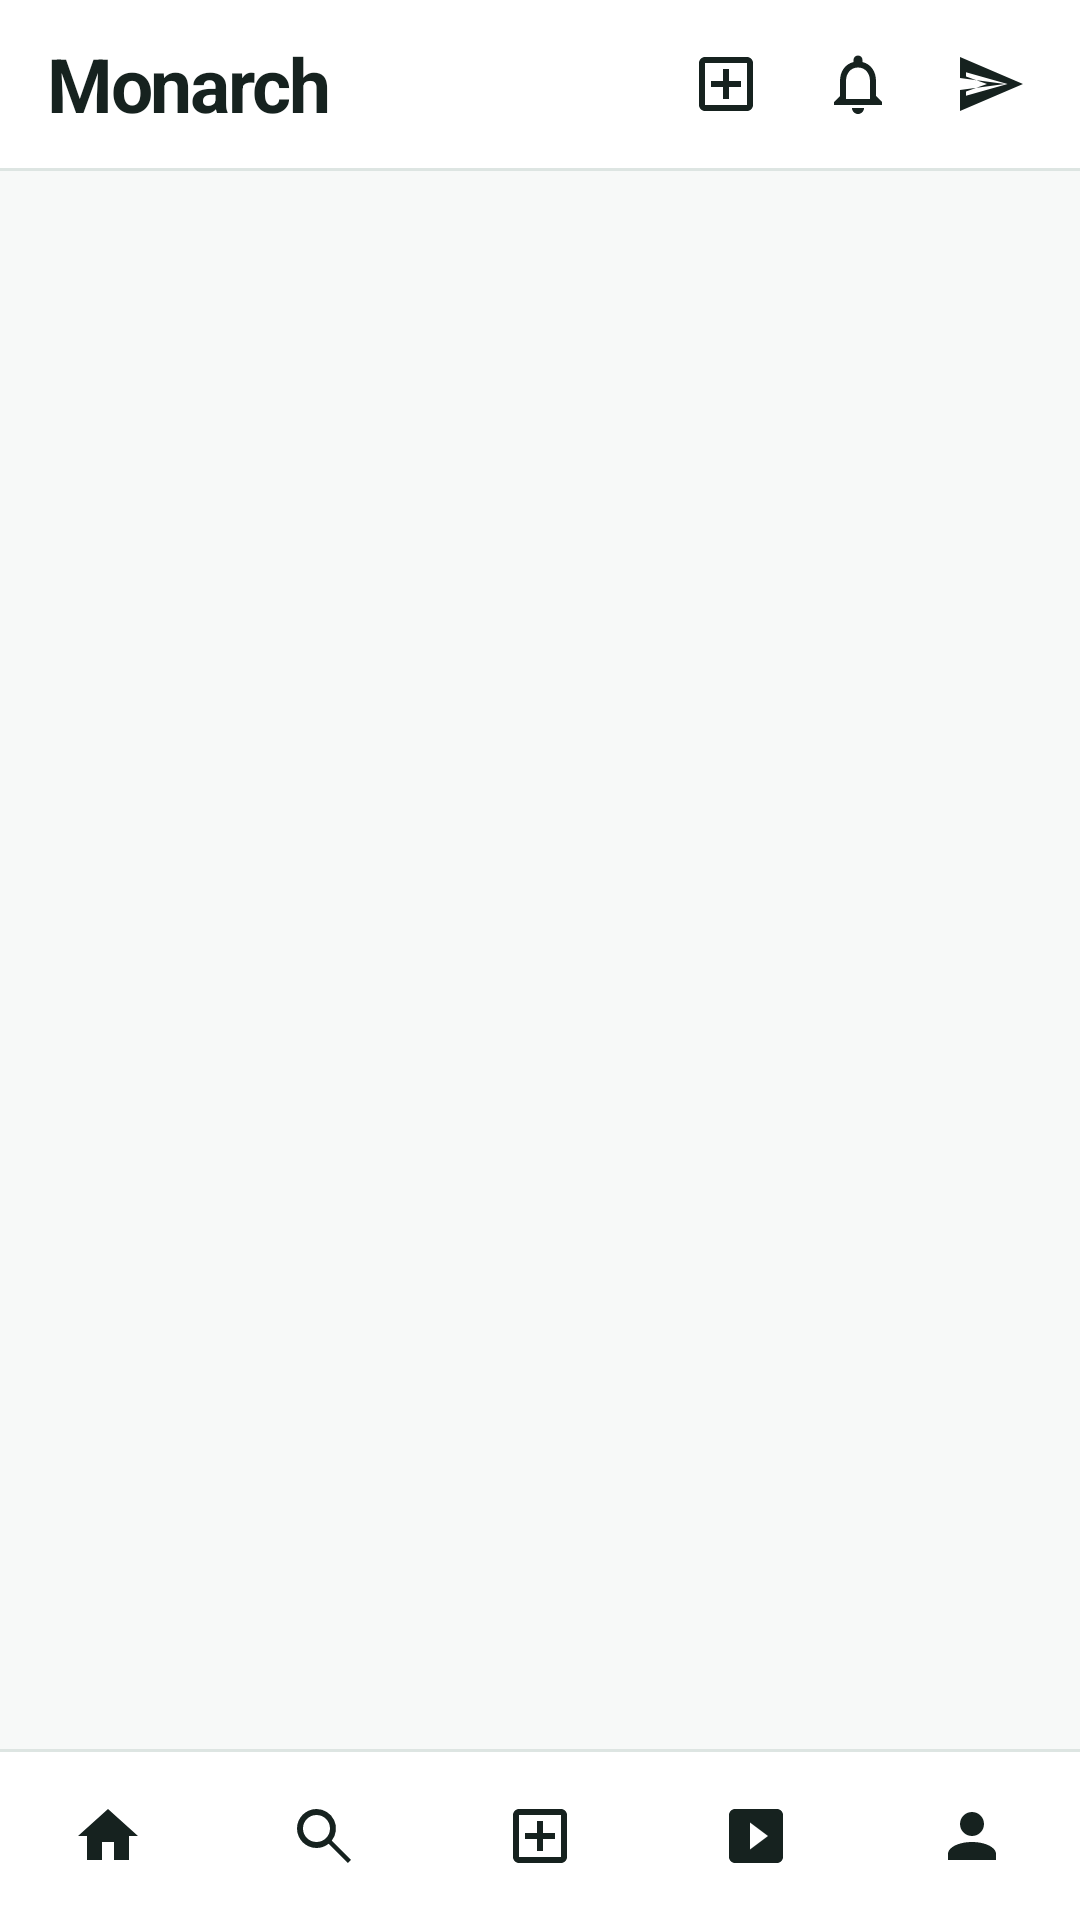

Where to tap for icons on this 1080px×1920px app screen, as point (x, y):
Activity: point (858, 84)
Create: point (540, 1836)
Create a post: point (726, 84)
Home: point (108, 1834)
Messages: point (991, 84)
Search: point (324, 1836)
Video: point (756, 1836)
Your profile: point (972, 1836)
